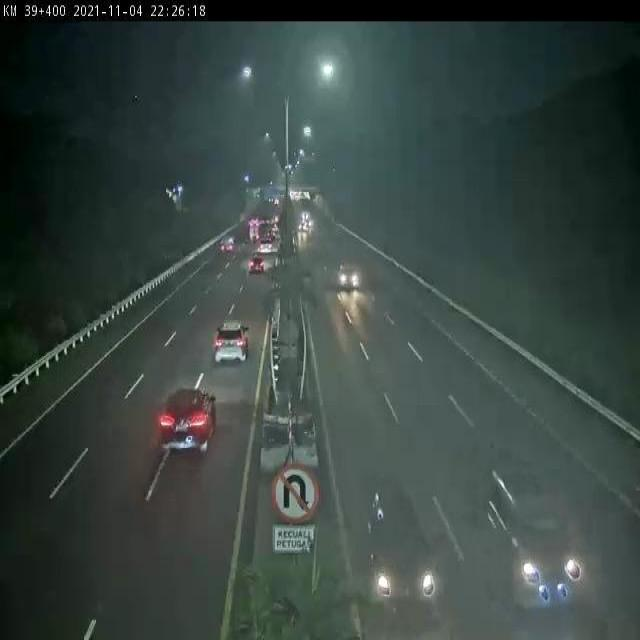car: (493, 447, 600, 616), (368, 472, 445, 620), (151, 376, 224, 463), (213, 312, 254, 371), (333, 256, 363, 304)
